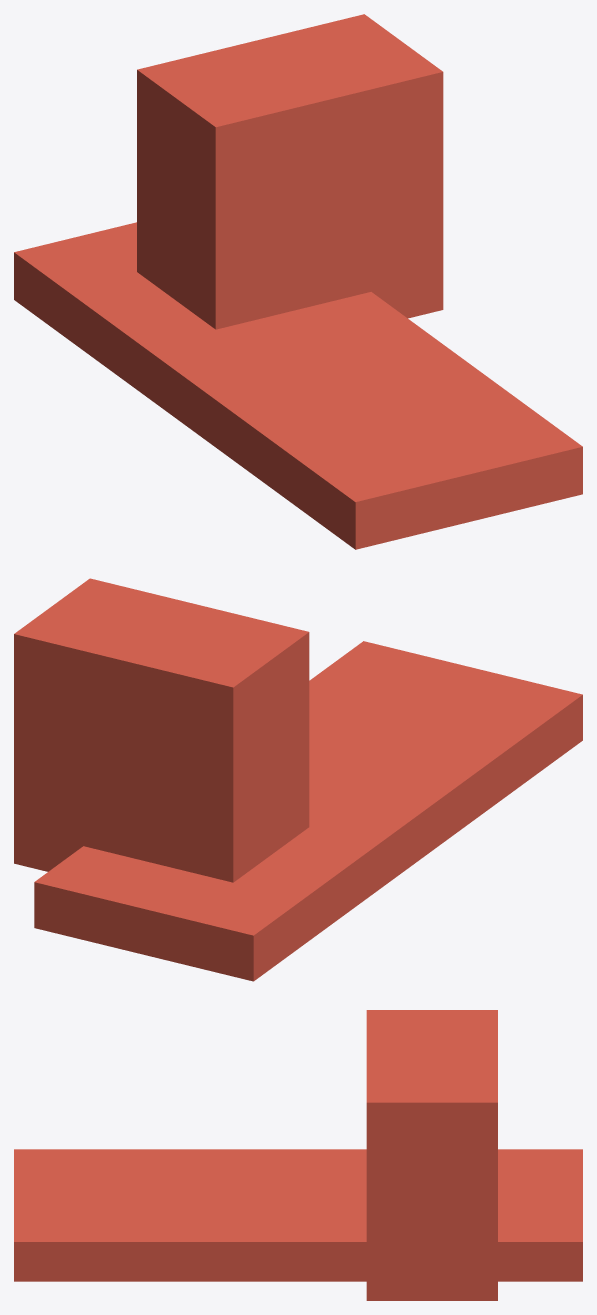
The model's file is Environment_UpperCloud001.glb.
The picture shows the model from 3 angles, top to bottom: view 1: azimuth 30°, elevation 25°; view 2: azimuth 150°, elevation 25°; view 3: azimuth 270°, elevation 25°; orthographic projection. The views are drawn at different scales.
Visible parts, largest first — view 1: Cloud; view 2: Cloud; view 3: Cloud.
Boxes of the visible parts, box(x1,y1,x2,y2) form: Cloud: box(14, 14, 582, 549); Cloud: box(14, 578, 582, 981); Cloud: box(14, 1010, 582, 1300).
Size of the model in its own units: 2.63 by 2.1 by 5.2.
